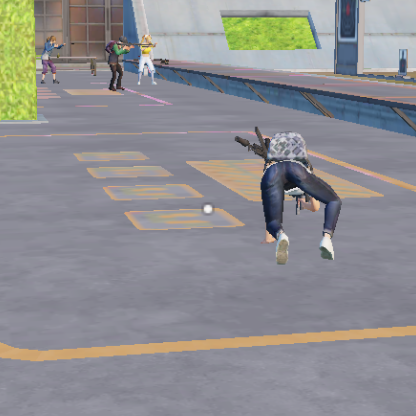ren: (258, 127, 344, 267), (105, 34, 131, 93), (136, 33, 160, 88), (40, 34, 63, 86)
tou: (287, 177, 310, 203), (141, 34, 152, 44), (45, 35, 55, 44), (118, 34, 127, 44)
